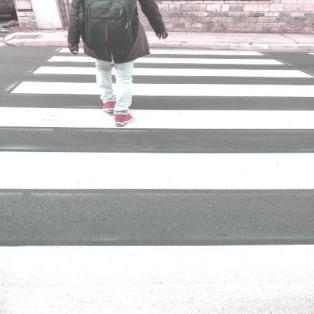Paso de Cebra: (1, 64, 314, 102)
